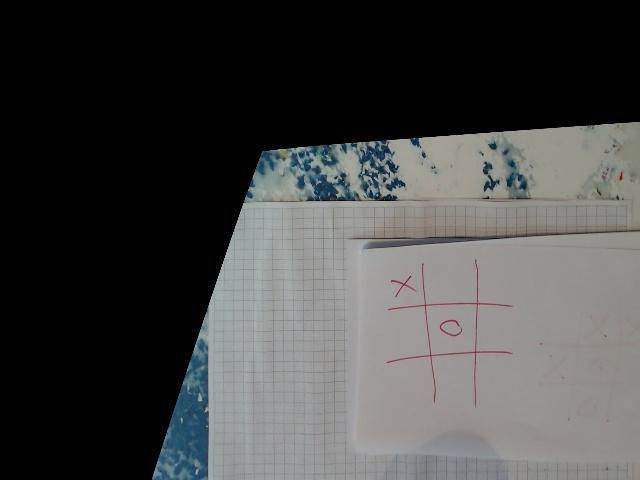O: (437, 312, 468, 339)
X: (388, 274, 421, 297)
grid: (386, 260, 514, 406)
